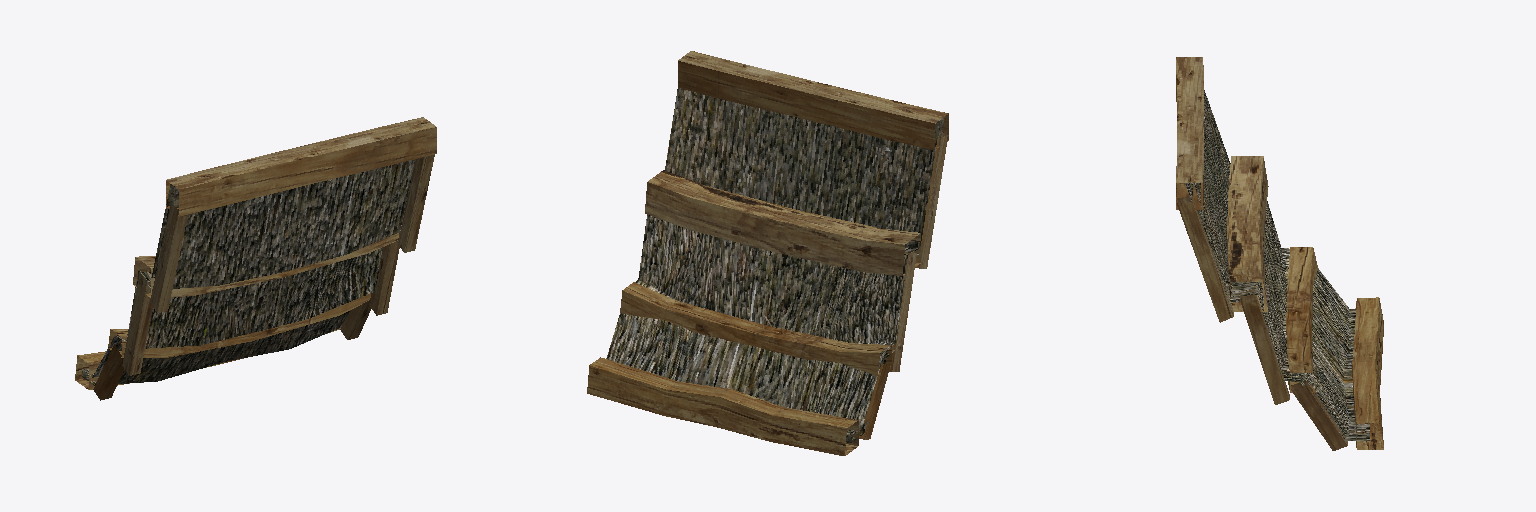
3 views of the same model, side by side, from view 1: azimuth 30°, elevation 25°; view 2: azimuth 150°, elevation 25°; view 3: azimuth 270°, elevation 25° (orthographic).
Parts seen in each view (by area): view 1: Roof; view 2: Roof; view 3: Roof.
Boxes of the visible parts, x1=… form: Roof: x1=75, y1=117, x2=436, y2=400; Roof: x1=587, y1=51, x2=948, y2=455; Roof: x1=1176, y1=57, x2=1383, y2=450.
Size of the model in its own units: 2 by 2.01 by 1.4.
Materials: 1 (1 with a texture image).